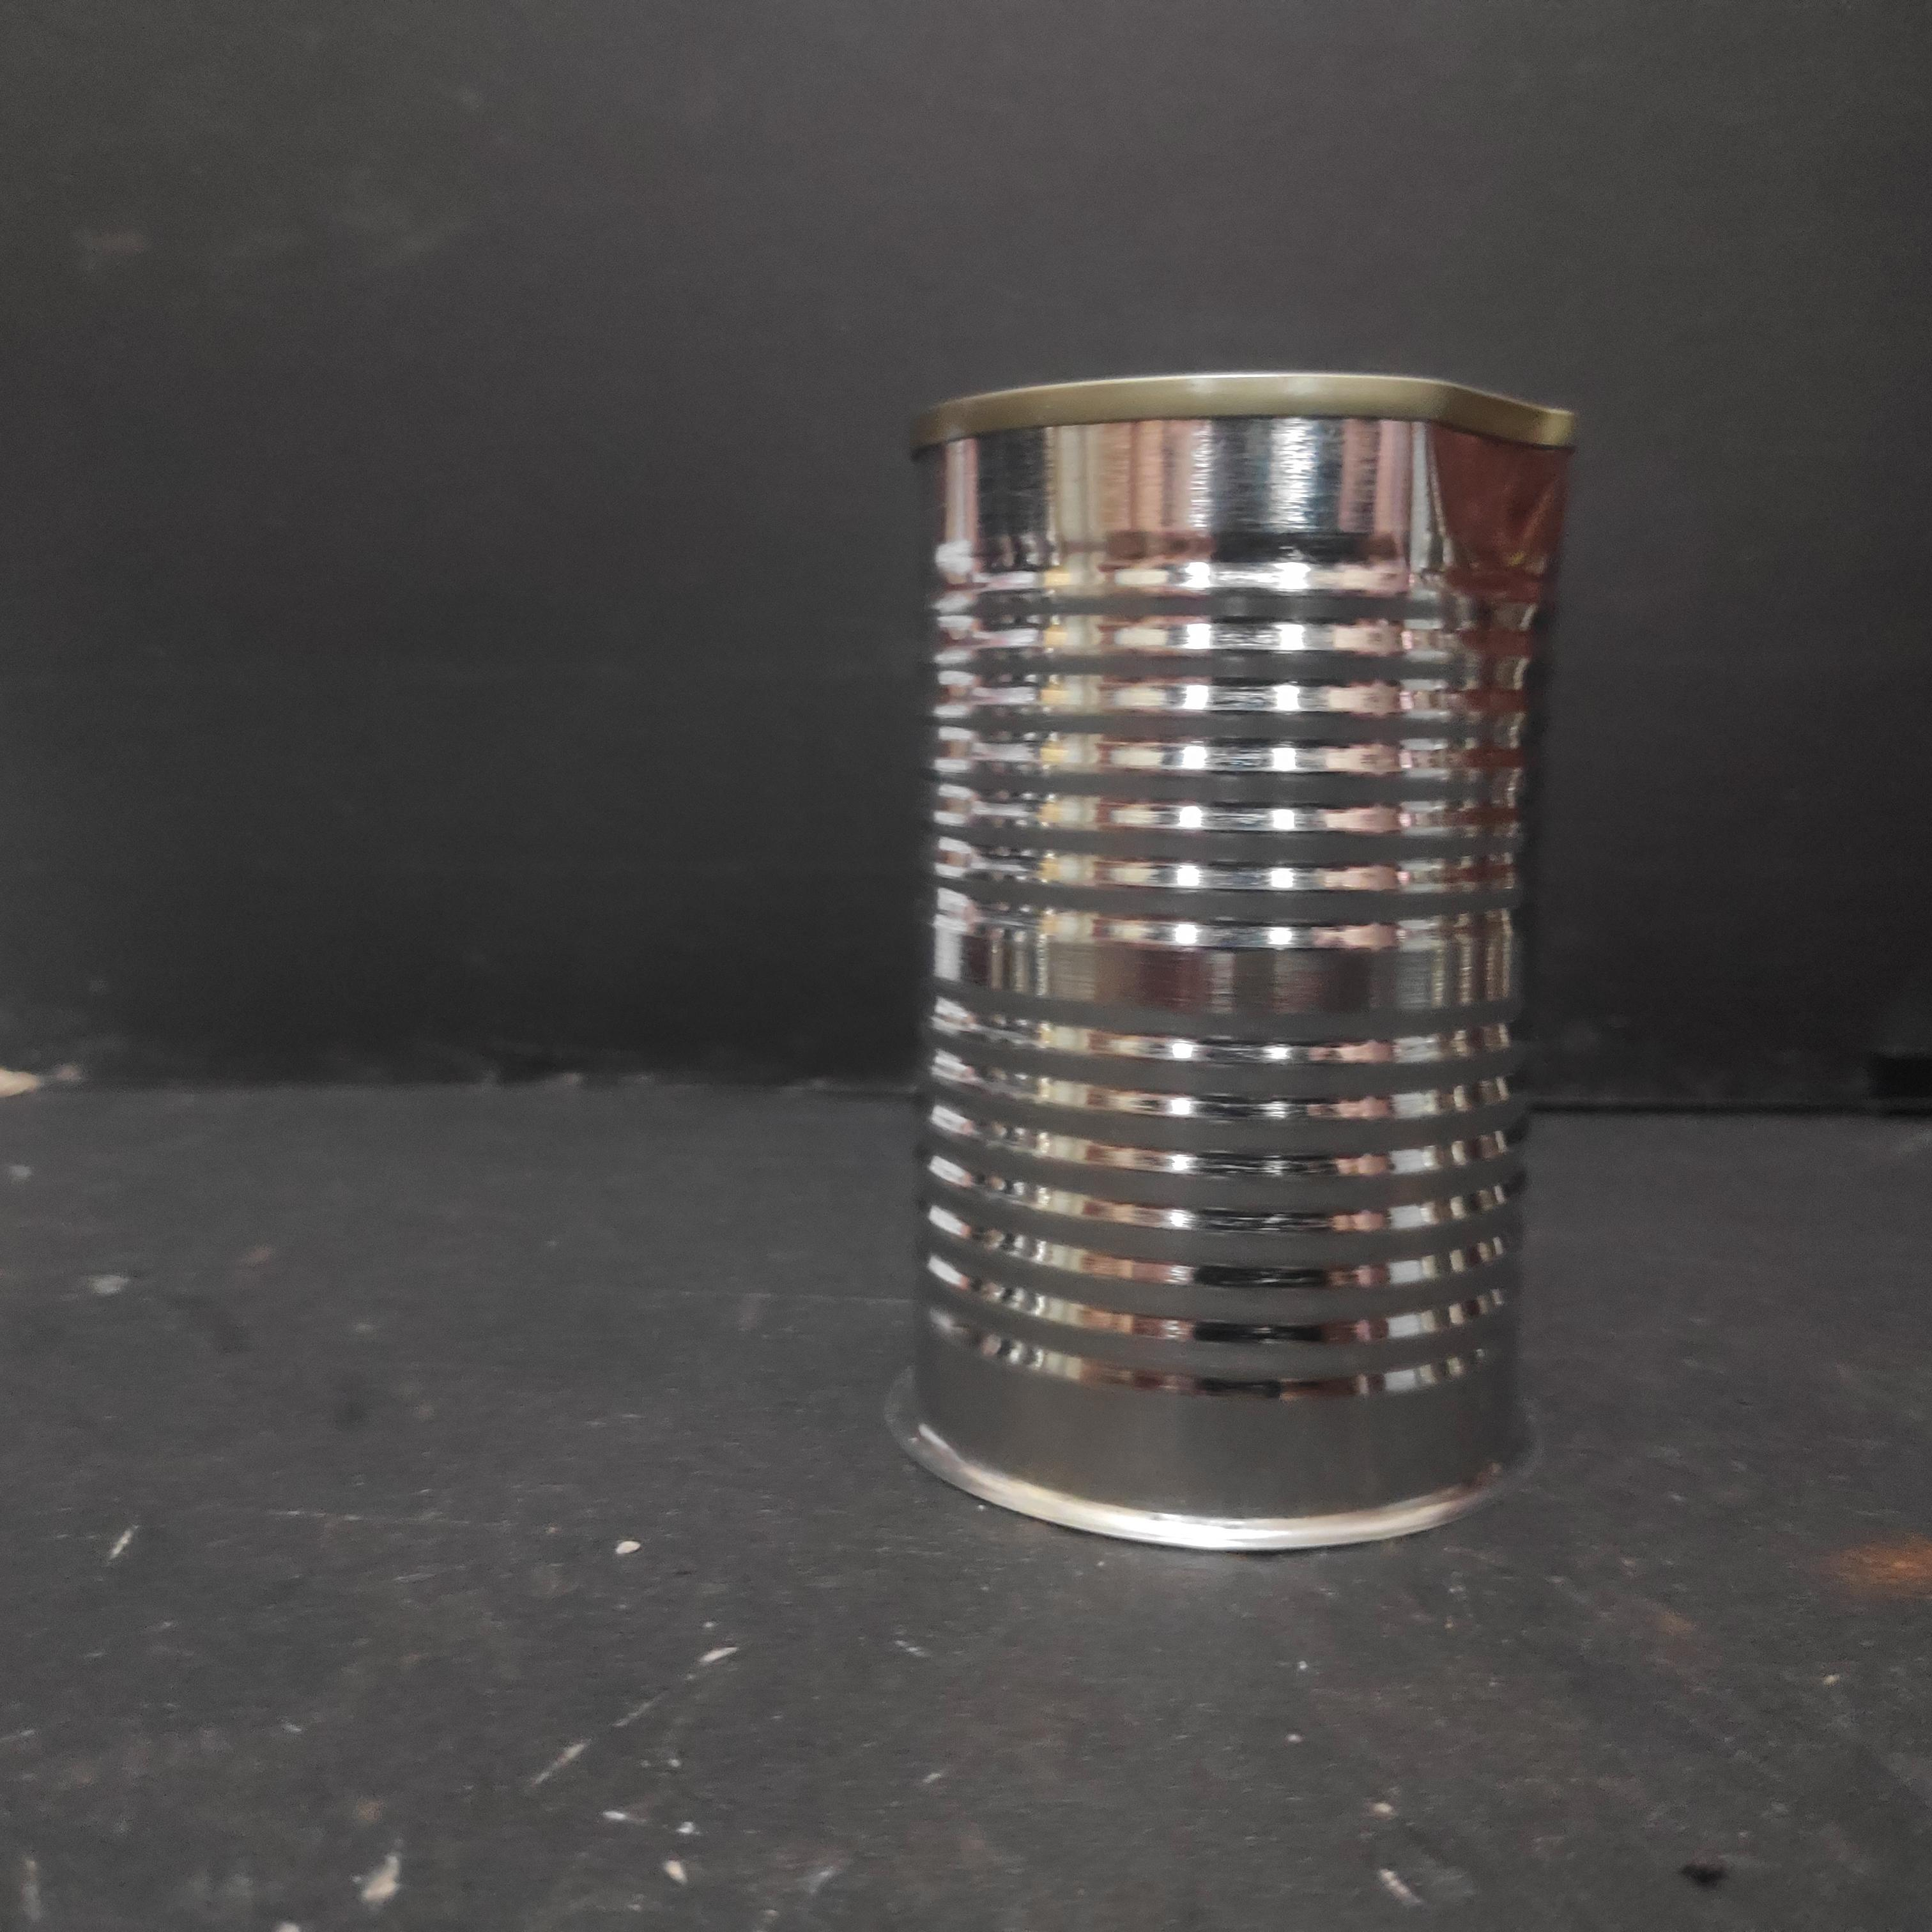Minor Defect: (902, 368, 1592, 1555)
